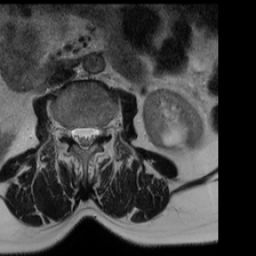CCS_normal: (80, 118, 88, 158)
LFS_normal: (98, 118, 107, 143)
LLS_normal: (88, 118, 98, 150)
RFS_normal: (61, 116, 70, 145)
RLS_normal: (70, 119, 80, 151)
